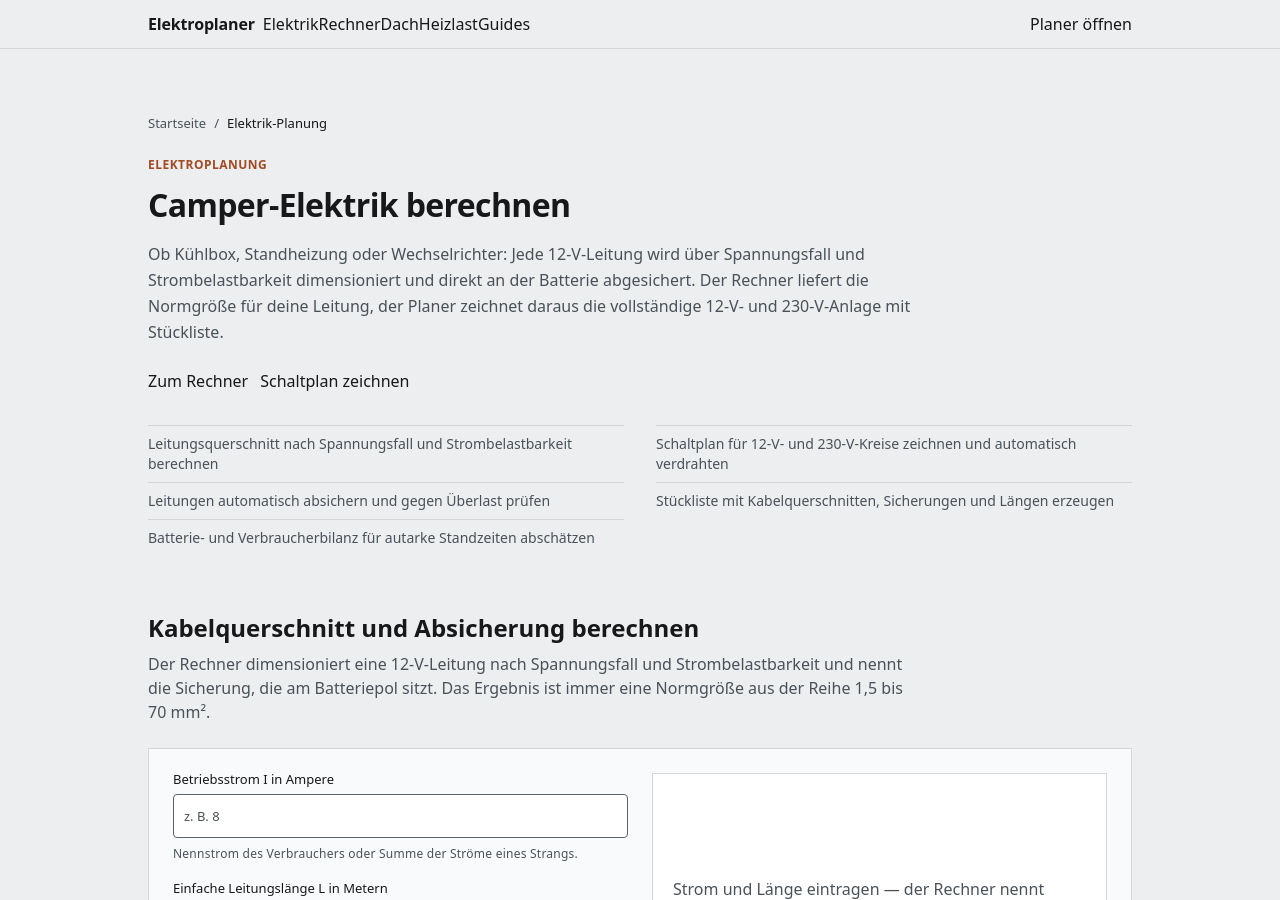
it: ElektrikPlanung › meldet Eingaben außerhalb der Normreihe sichtbar
The width and height of the screenshot is (1280, 900).
Type "200" into the field labelled "Betriebsstrom I in Ampere" at [400, 816], box [173,794,628,838]
(page scrolled)
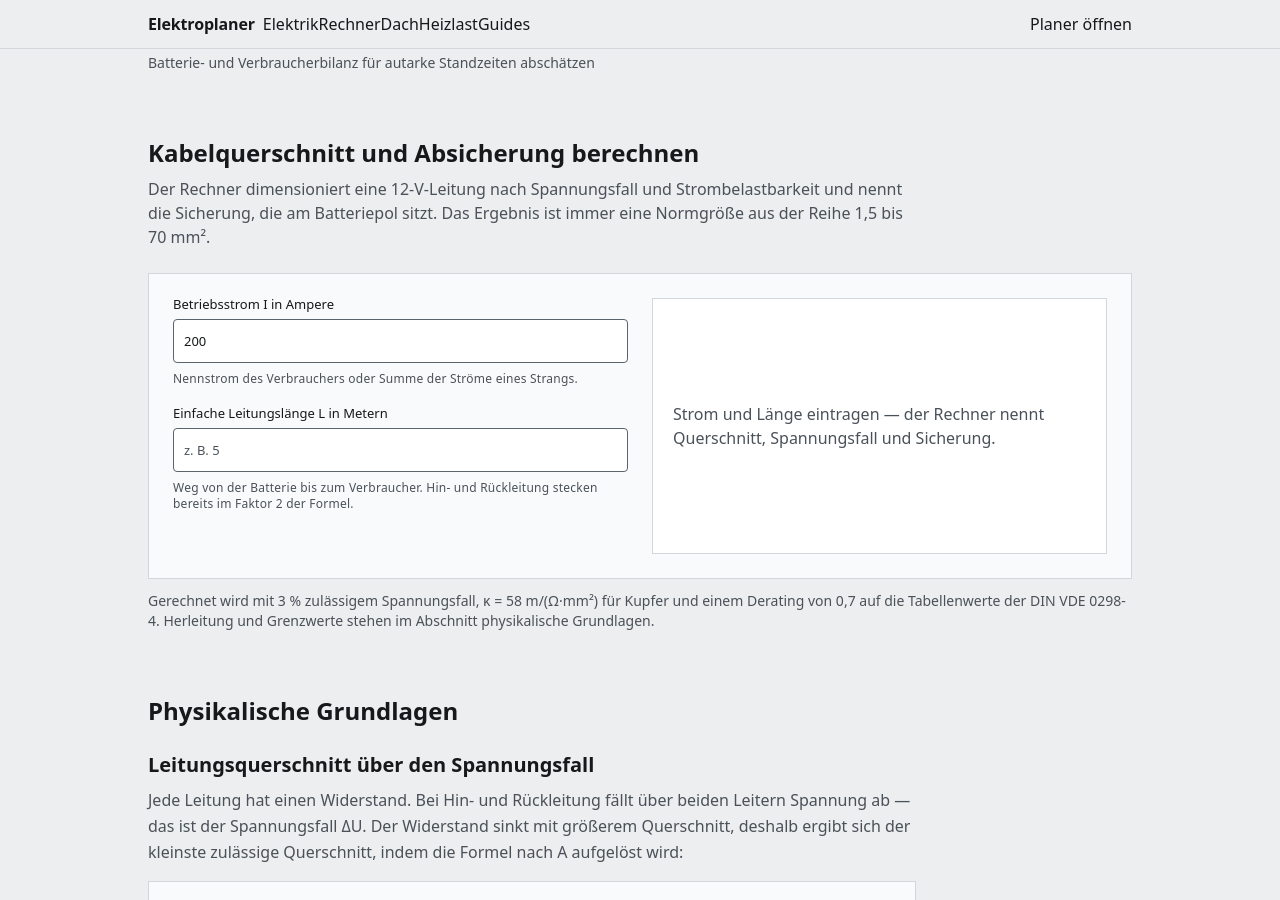
Type "10" into the field labelled "Einfache Leitungslänge L in Metern" at [400, 450], box [173,428,628,472]
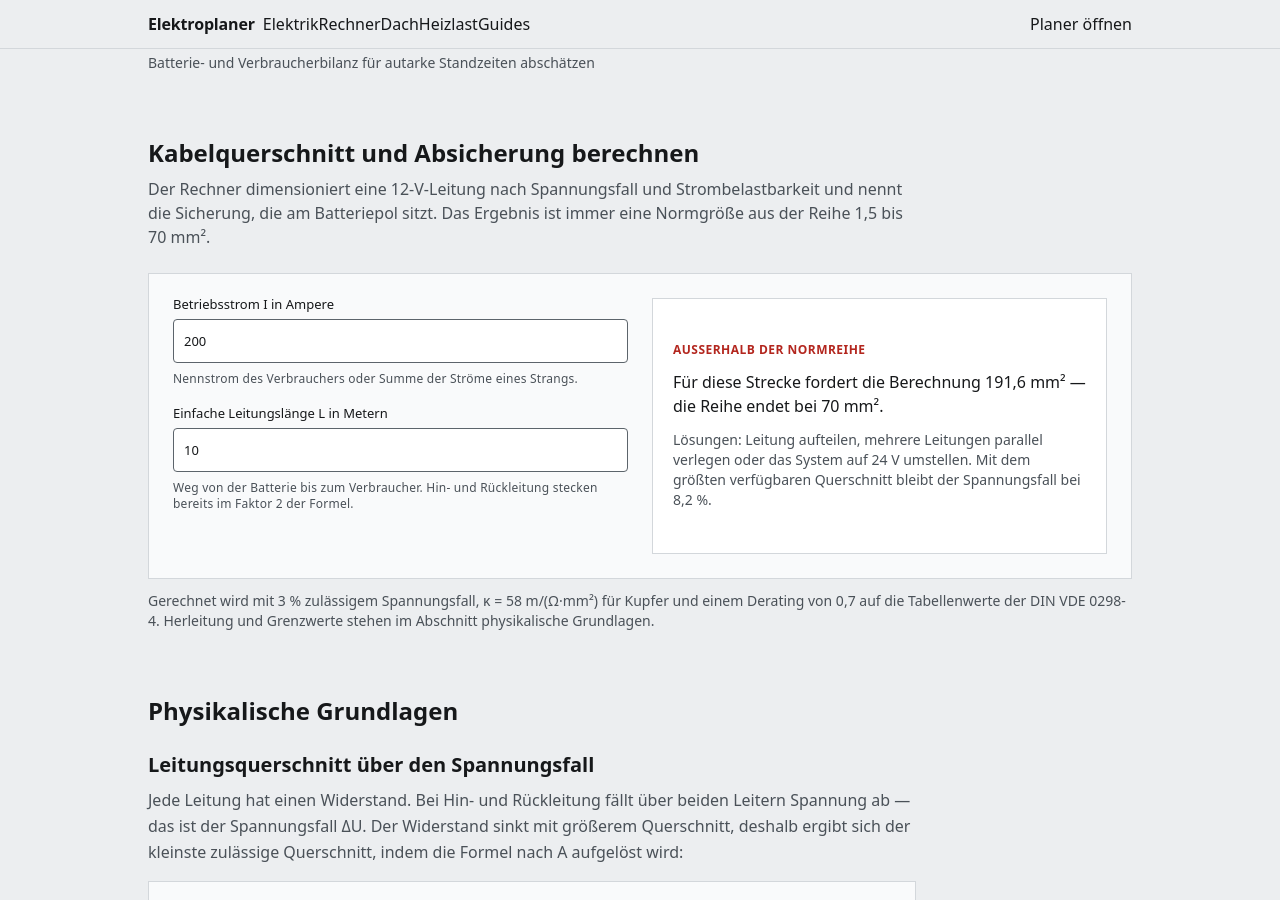
expect the message shows "Außerhalb der Normreihe": met, box [673,341,866,358]
